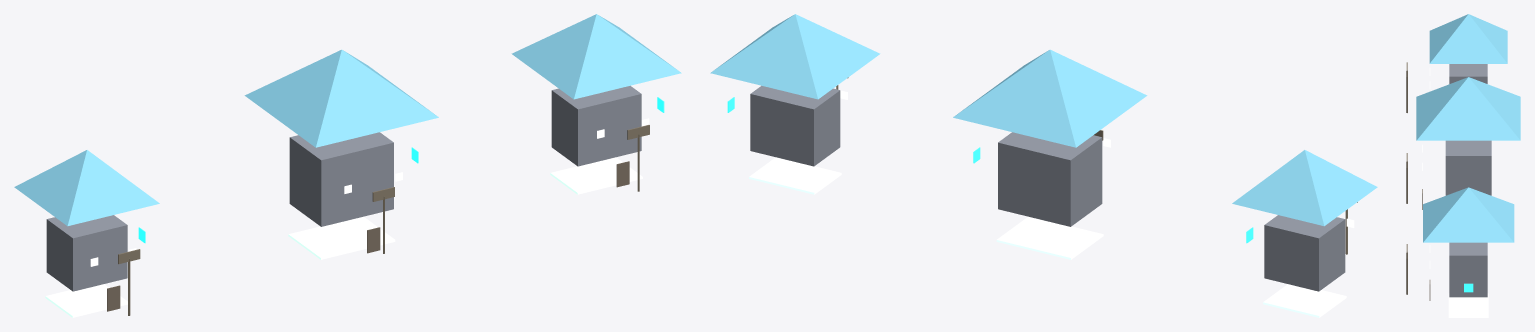
File: town_buildings_v2.glb
The picture shows the model from 3 angles, left to right: view 1: azimuth 30°, elevation 25°; view 2: azimuth 150°, elevation 25°; view 3: azimuth 270°, elevation 25°; orthographic projection. The views are drawn at different scales.
Parts seen in each view (by area): view 1: QuestHub_Roof, QuestHub_Walls, Workshop_Roof, Workshop_Walls, Shop_Roof, Shop_Walls, QuestHub_Trim, Workshop_Trim, Shop_Trim; view 2: QuestHub_Roof, QuestHub_Walls, Workshop_Roof, Workshop_Walls, Shop_Roof, Shop_Walls, QuestHub_Trim, Workshop_Trim, Shop_Trim; view 3: QuestHub_Roof, Workshop_Roof, Shop_Roof, QuestHub_Walls, Workshop_Walls, Workshop_Trim, Shop_Walls, Workshop_Tech.
Boxes of the visible parts, x1,y1,x2,y2 form: QuestHub_Roof: (244,49,438,147); QuestHub_Walls: (289,132,393,226); Workshop_Roof: (511,14,681,99); Workshop_Walls: (551,85,641,166); Shop_Roof: (14,150,159,226); Shop_Walls: (46,215,127,291); QuestHub_Trim: (288,216,395,259); Workshop_Trim: (550,157,642,194); Shop_Trim: (45,284,127,317); QuestHub_Roof: (953,49,1147,147); QuestHub_Walls: (998,132,1102,226); Workshop_Roof: (710,14,880,99); Workshop_Walls: (750,85,840,166); Shop_Roof: (1232,150,1377,226); Shop_Walls: (1264,215,1345,291); QuestHub_Trim: (996,216,1103,259); Workshop_Trim: (749,157,841,194); Shop_Trim: (1263,284,1346,317); QuestHub_Roof: (1416,77,1520,140); Workshop_Roof: (1423,187,1514,242); Shop_Roof: (1429,14,1507,63); QuestHub_Walls: (1445,140,1491,195); Workshop_Walls: (1449,242,1487,297); Workshop_Trim: (1448,293,1488,317); Shop_Walls: (1449,64,1487,83); Workshop_Tech: (1464,283,1473,292).
Bounding box in the file's own units: 17.04 × 4.97 × 3.73.
